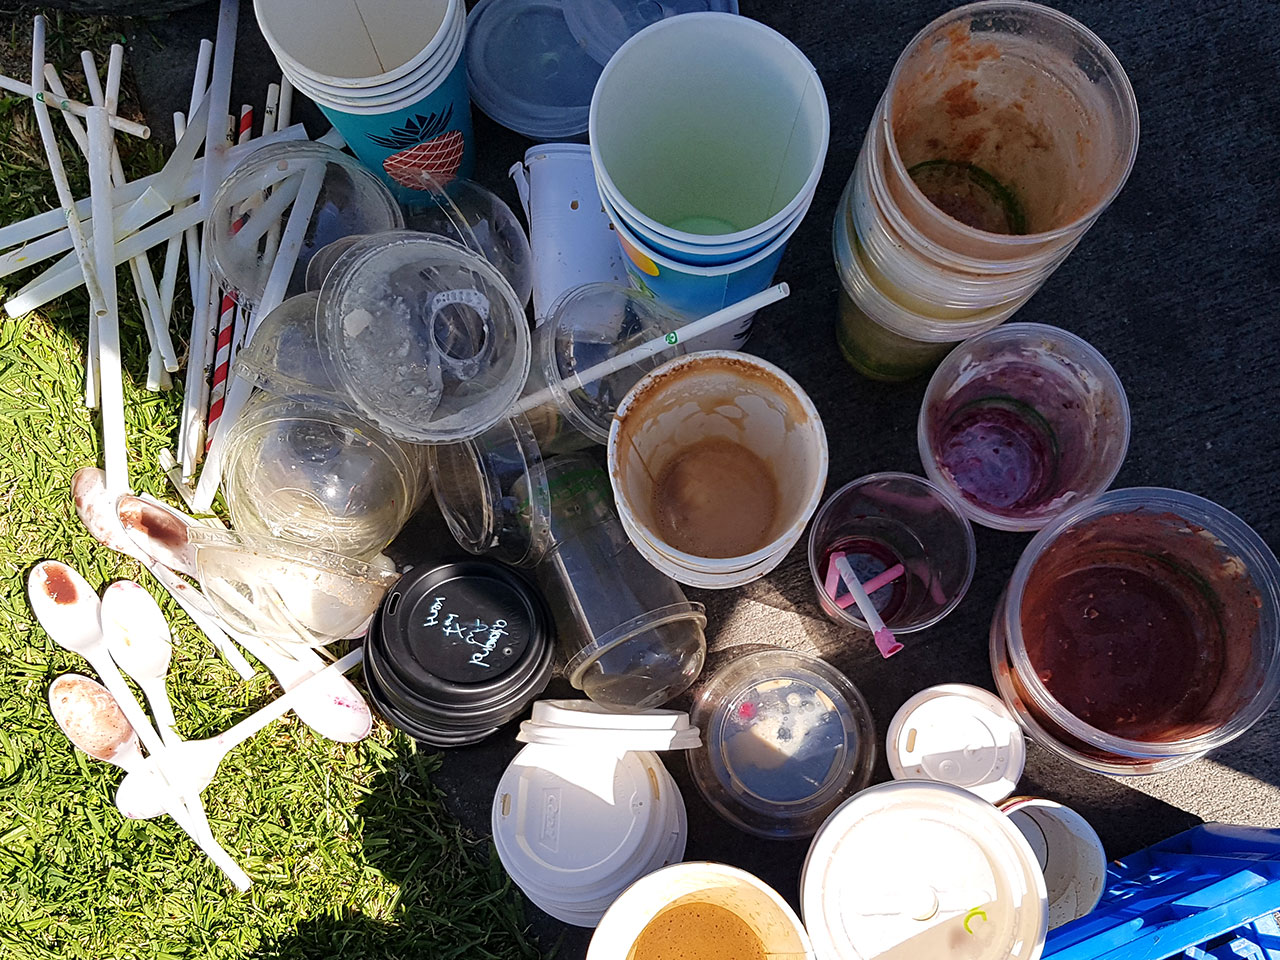cup: (847, 12, 1145, 360), (990, 482, 1279, 771), (493, 446, 752, 725), (573, 6, 854, 254), (590, 345, 838, 581), (238, 1, 490, 193), (921, 318, 1139, 526), (799, 464, 973, 640), (566, 850, 822, 960), (495, 128, 616, 341)
